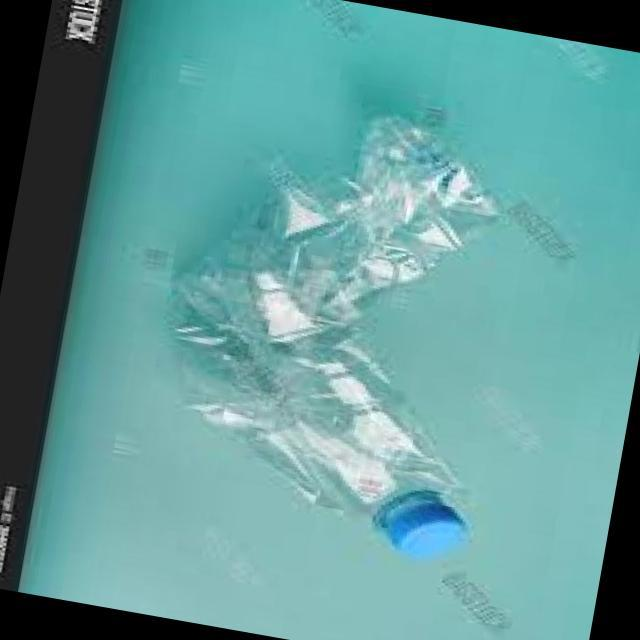defected: (126, 75, 558, 576)
